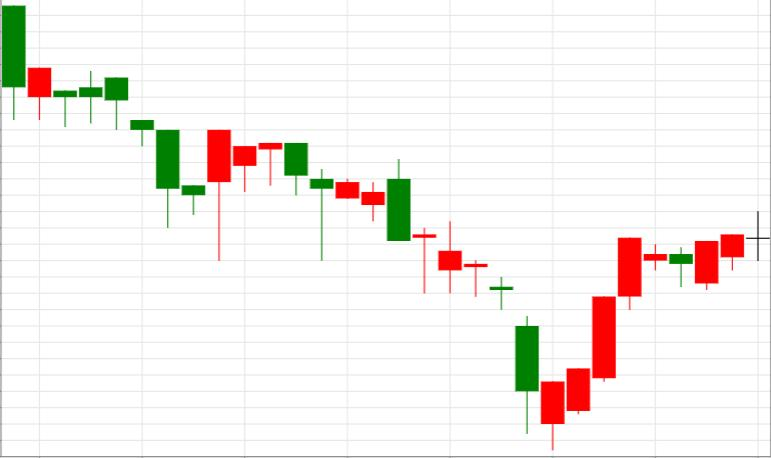three_white_soldiers_rise: (387, 159, 641, 450)
